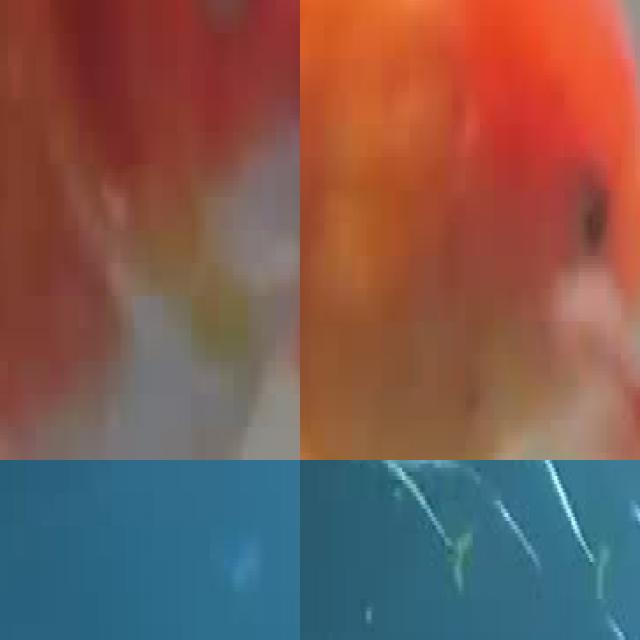fish: (300, 0, 640, 460), (0, 0, 300, 460)
